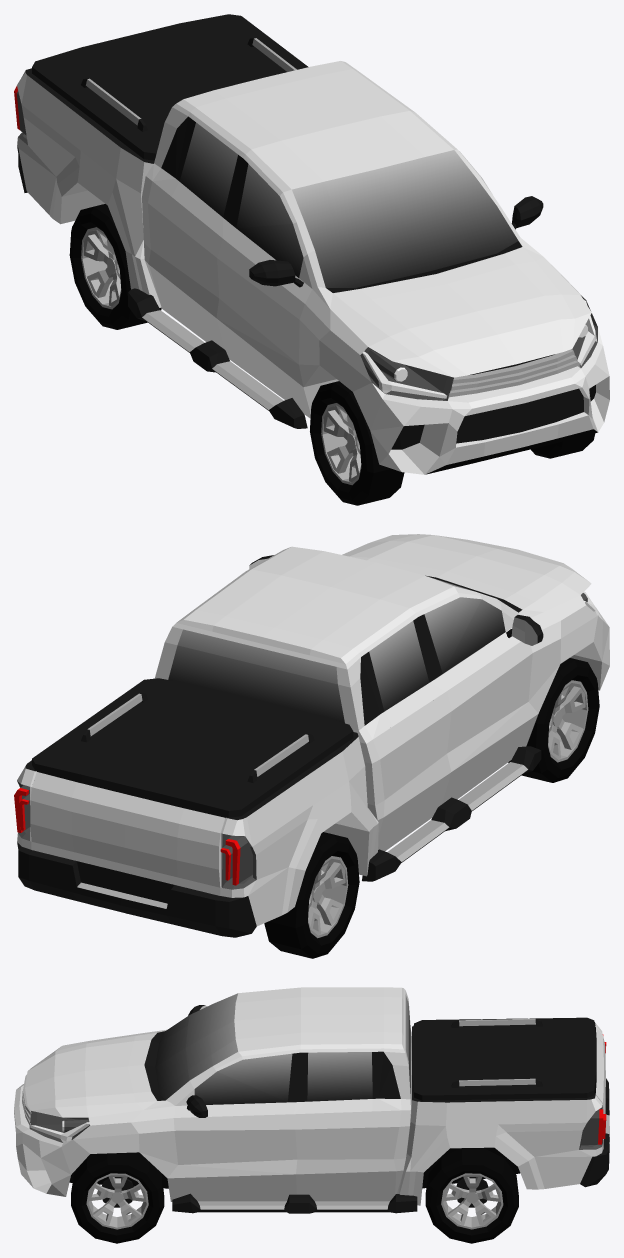
The model's file is pickupTruck 1.fbx.
3 renders of one model, top to bottom at view 1: azimuth 30°, elevation 25°; view 2: azimuth 150°, elevation 25°; view 3: azimuth 270°, elevation 25°, orthographic. The views are drawn at different scales.
Visible parts, largest first — view 1: Plane, Cube, FR_Wheel, RR_Wheel, FL_Wheel; view 2: Plane, Cube, Plane.001, RR_Wheel, FR_Wheel; view 3: Plane, Cube, RL_Wheel, FL_Wheel, Plane.001.
Boxes of the visible parts, x1=… form: Plane: x1=14, y1=61, x2=609, y2=474; Cube: x1=32, y1=14, x2=308, y2=160; FR_Wheel: x1=310, y1=381, x2=404, y2=505; RR_Wheel: x1=69, y1=204, x2=161, y2=329; FL_Wheel: x1=531, y1=433, x2=595, y2=458; Plane: x1=14, y1=534, x2=609, y2=937; Cube: x1=32, y1=678, x2=353, y2=817; Plane.001: x1=30, y1=772, x2=225, y2=895; RR_Wheel: x1=264, y1=832, x2=359, y2=958; FR_Wheel: x1=508, y1=658, x2=599, y2=782; Plane: x1=14, y1=987, x2=609, y2=1213; Cube: x1=412, y1=1017, x2=596, y2=1100; RL_Wheel: x1=425, y1=1148, x2=518, y2=1243; FL_Wheel: x1=71, y1=1152, x2=164, y2=1243; Plane.001: x1=594, y1=1026, x2=605, y2=1148.
Size of the model in its own units: 212 by 179 by 510.
